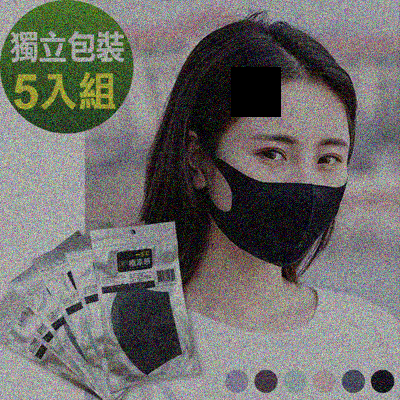with_mask: (203, 122, 349, 266)
